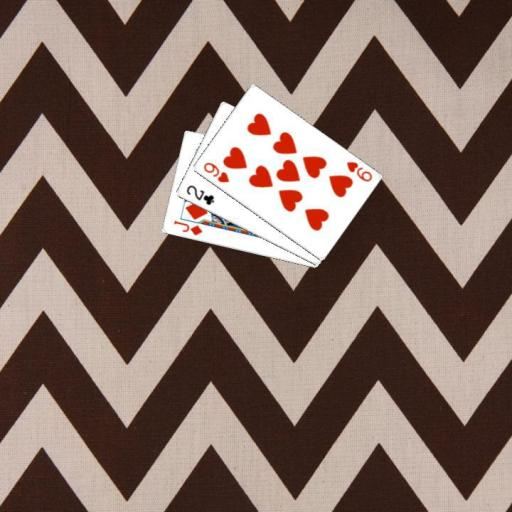2C: (183, 182, 215, 207)
9H: (200, 159, 230, 184), (343, 159, 373, 184)
JD: (170, 217, 203, 237)
